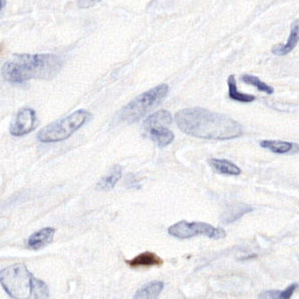Lymphocyte: (125, 252, 165, 269)
